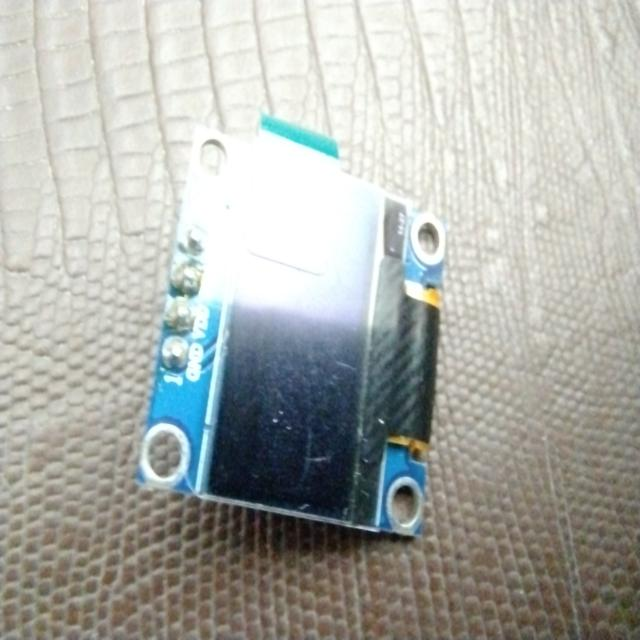oled: (136, 110, 458, 544)
